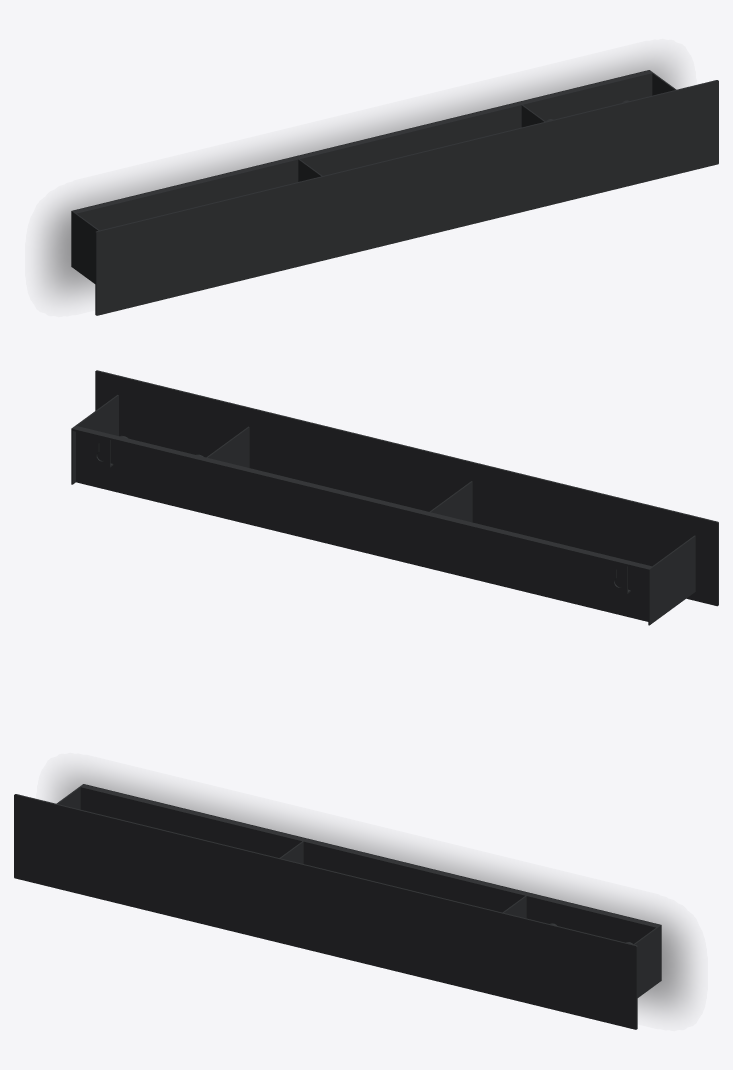
The model's file is skyline-patron.9398e0c463.ar.glb.
3 views of the same model, one above another, from view 1: azimuth 30°, elevation 25°; view 2: azimuth 150°, elevation 25°; view 3: azimuth 330°, elevation 25° (orthographic).
Visible parts, largest first — view 1: NAUO1, object 2; view 2: NAUO1; view 3: NAUO1, object 2.
Boxes of the visible parts, x1,y1,x2,y2 form: NAUO1: (71, 70, 718, 315); object 2: (42, 59, 678, 296); NAUO1: (71, 370, 718, 625); NAUO1: (14, 784, 661, 1029); object 2: (54, 773, 690, 1010).
Size of the model in its own units: 0.78 by 0.17 by 0.092.
Materials: 2 (1 with a texture image).
